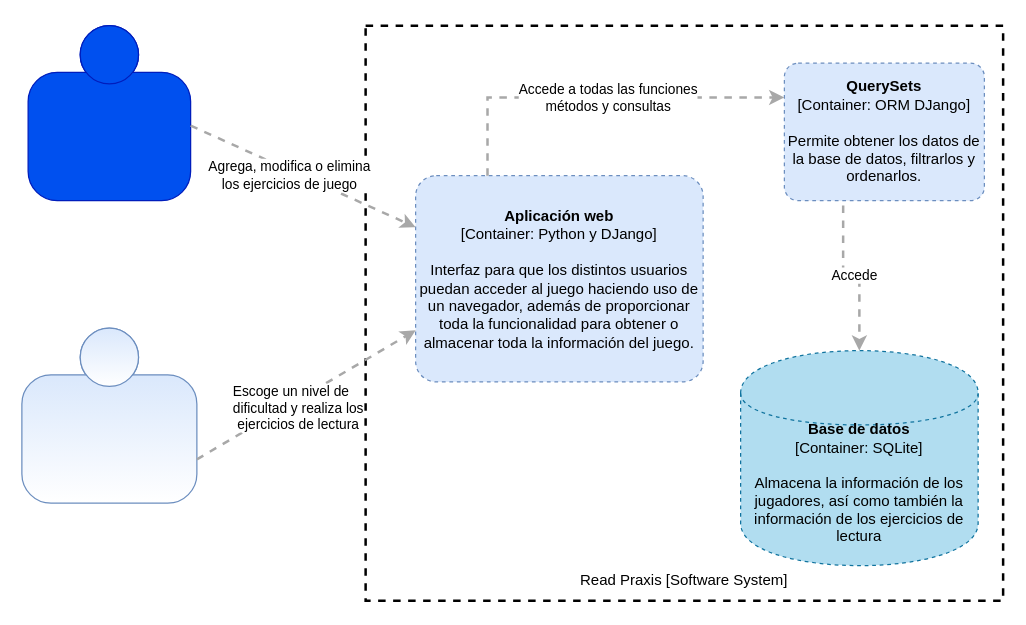
This 1026x625 diagram has some shape labels left out. The centre of each missing label's shape, as x and y in pixels:
Administrador [Person] Gestiona los ejercicios que tendrá el juego: the point at 109,112
Jugador [Person] Usuario entre 4 y 10 años que usará el juego: the point at 109,415
